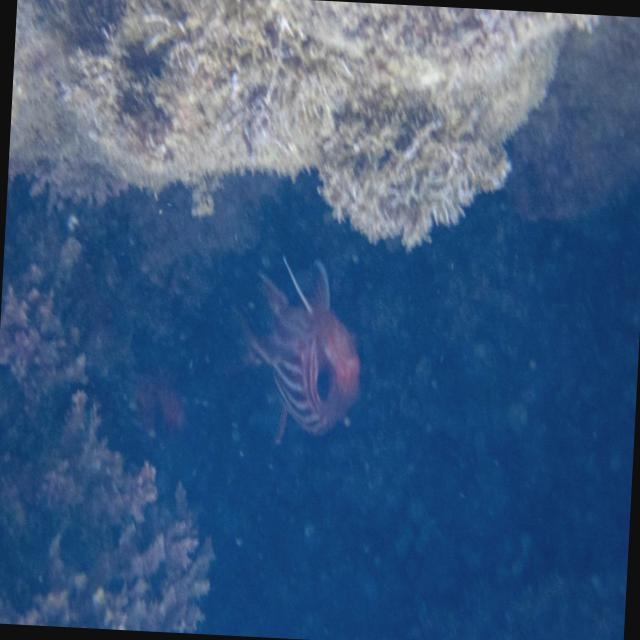Asker Baligi: (206, 238, 393, 462)
